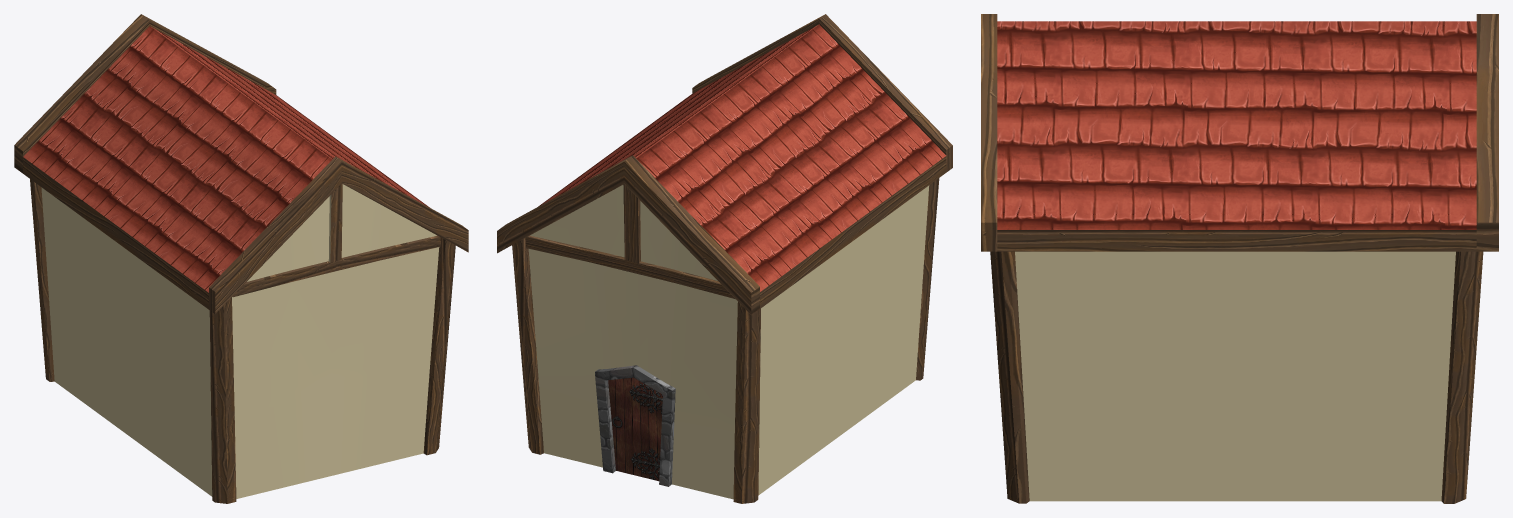
The model's file is hub.FBX.
3 views of the same model, side by side, from view 1: azimuth 30°, elevation 25°; view 2: azimuth 150°, elevation 25°; view 3: azimuth 270°, elevation 25° (orthographic). The views are drawn at different scales.
Parts seen in each view (by area): view 1: Box008; view 2: Box008; view 3: Box008.
Part boxes in pixels (x1,y1,x2,y2): Box008: (14,14,468,503); Box008: (497,14,952,503); Box008: (981,14,1498,503).
Bounding box in the file's own units: 52.33 × 64.19 × 71.86.
Materials: 8 (7 with a texture image).
